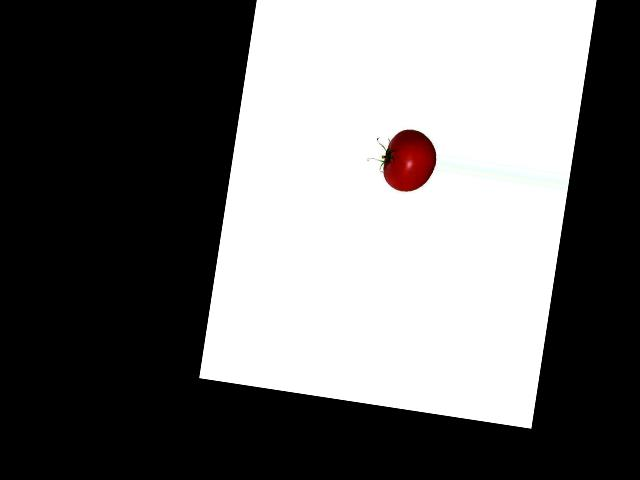tomato: (380, 127, 439, 195)
